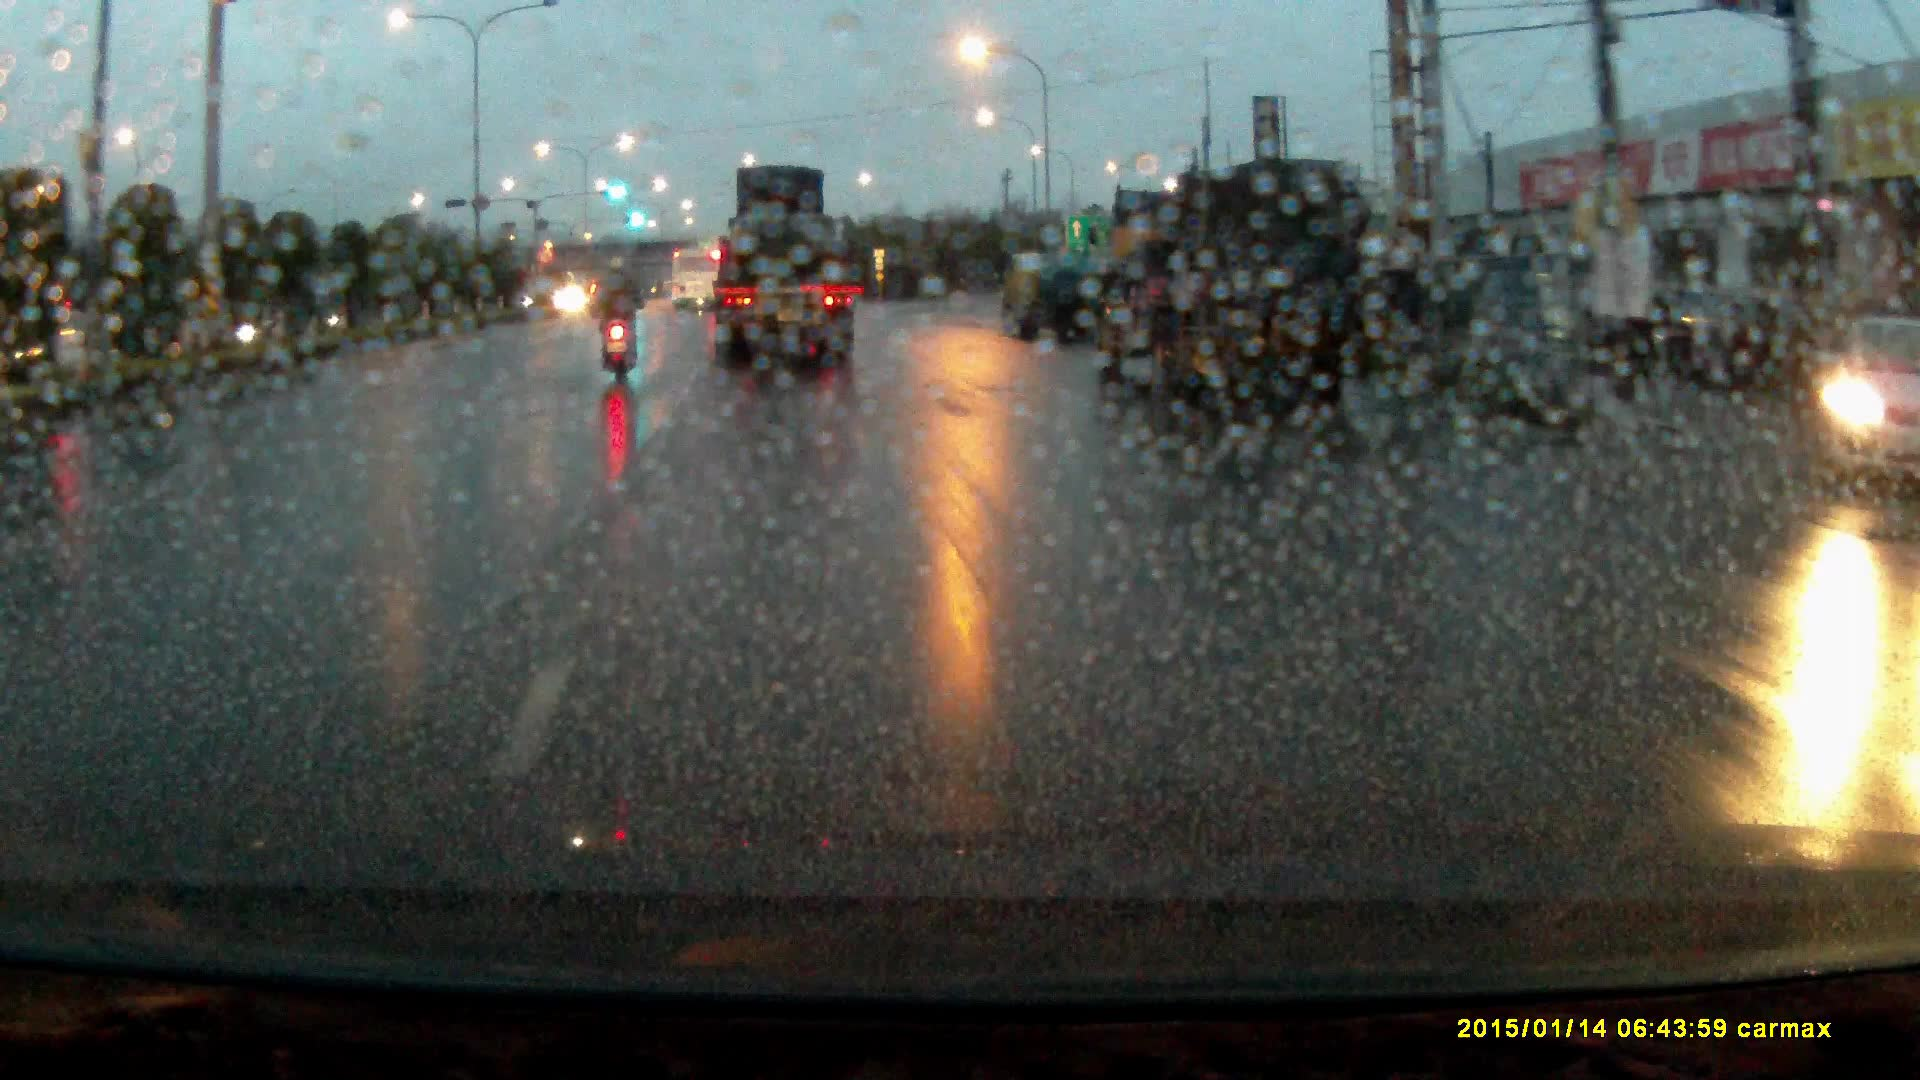rider: (595, 265, 649, 386)
vehicle: (1089, 161, 1378, 436), (712, 166, 862, 371), (1812, 315, 1920, 492), (1002, 255, 1099, 349), (673, 253, 720, 317), (590, 282, 636, 324)
